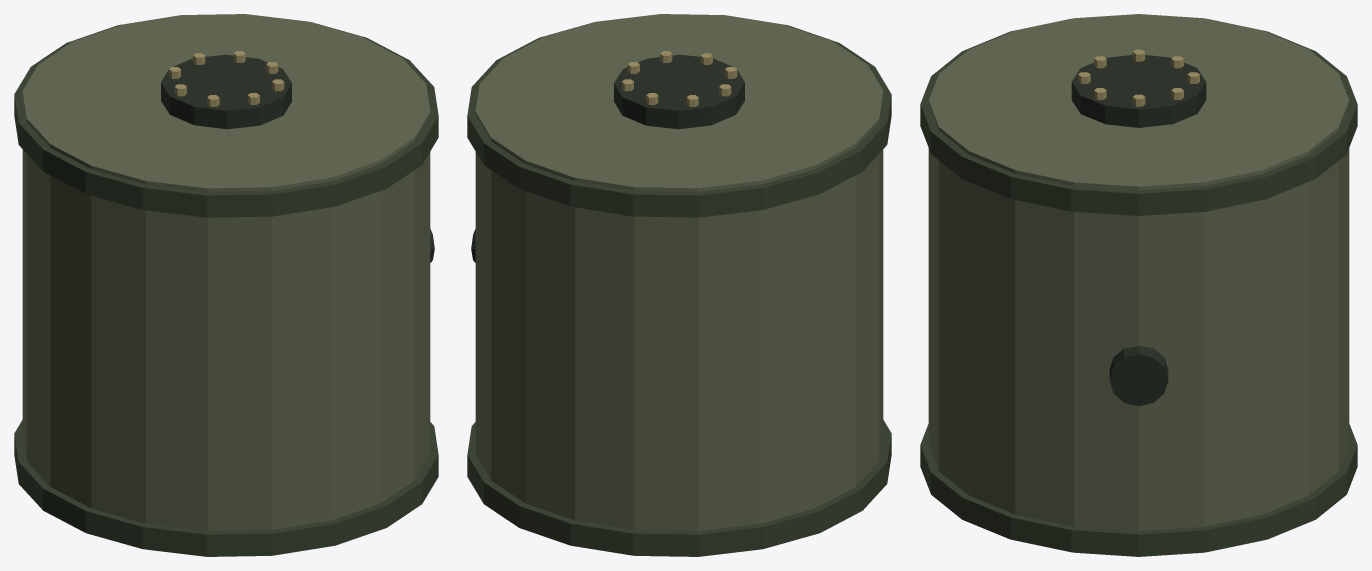
File: tankInstances.obj
3 renders of one model, left to right at view 1: azimuth 30°, elevation 25°; view 2: azimuth 150°, elevation 25°; view 3: azimuth 270°, elevation 25°, orthographic.
Visible parts, largest first — view 1: tankInstances; view 2: tankInstances; view 3: tankInstances.
Part boxes in pixels (x1,y1,x2,y2): tankInstances: (14,14,438,556); tankInstances: (467,14,891,556); tankInstances: (920,14,1357,556).
Bounding box in the file's own units: 1 × 1 × 1.
1 material, 1 textured.
